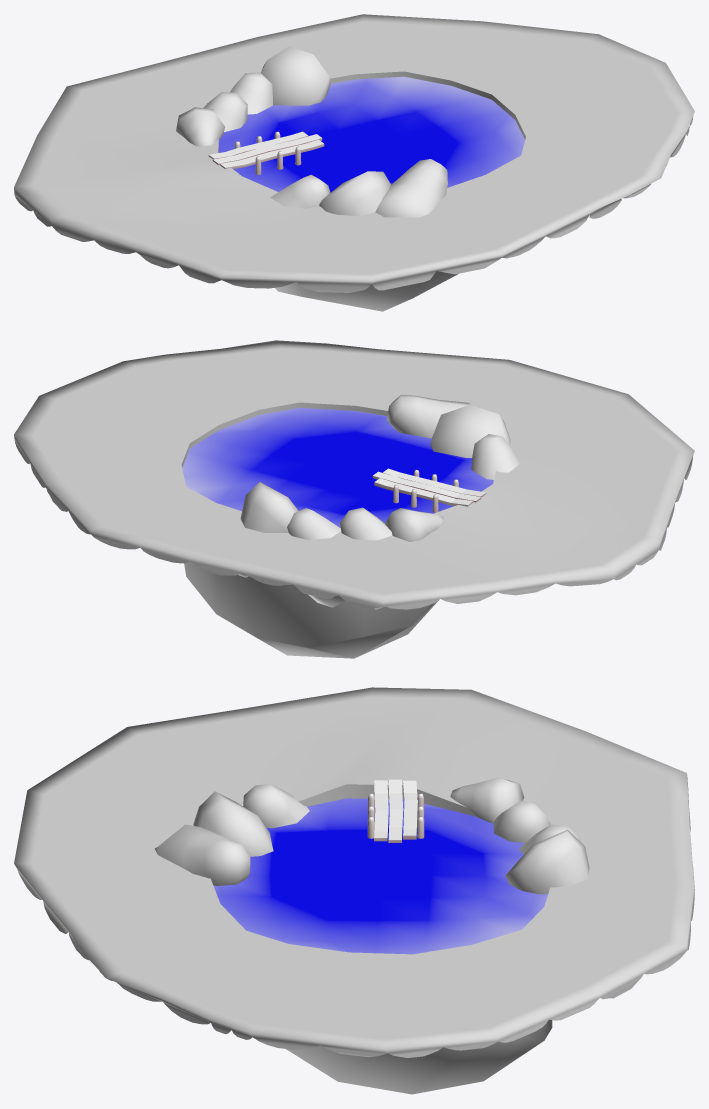
File: FinaleTopper.fbx
3 renders of one model, top to bottom at view 1: azimuth 30°, elevation 25°; view 2: azimuth 150°, elevation 25°; view 3: azimuth 270°, elevation 25°, orthographic. The views are drawn at different scales.
Visible parts, largest first — view 1: Plane.014, Plane.016, Plane.017, Cube.046, Cube.044, Cube.043, Cube.037, Cube.032, Cube.042, Cube.045, Cube.041; view 2: Plane.014, Plane.016, Plane.017, Cube.043, Cube.044, Cube.046, Cube.037, Cube.042, Cube.045, Cube.032, Cube.041; view 3: Plane.014, Plane.016, Plane.017, Cube.044, Cube.046, Cube.043, Cube.037, Cube.032, Cube.042, Cube.041.
Boxes of the visible parts, x1=… form: Plane.014: x1=14, y1=14, x2=694, y2=292; Plane.016: x1=218, y1=76, x2=525, y2=192; Plane.017: x1=218, y1=71, x2=525, y2=311; Cube.046: x1=261, y1=46, x2=330, y2=105; Cube.044: x1=375, y1=159, x2=447, y2=217; Cube.043: x1=319, y1=171, x2=390, y2=216; Cube.037: x1=208, y1=131, x2=324, y2=169; Cube.032: x1=176, y1=107, x2=224, y2=146; Cube.042: x1=270, y1=174, x2=330, y2=208; Cube.045: x1=230, y1=72, x2=272, y2=114; Cube.041: x1=203, y1=92, x2=247, y2=132; Plane.014: x1=14, y1=340, x2=694, y2=609; Plane.016: x1=182, y1=407, x2=493, y2=527; Plane.017: x1=181, y1=402, x2=438, y2=658; Cube.043: x1=430, y1=405, x2=510, y2=457; Cube.044: x1=386, y1=394, x2=475, y2=438; Cube.046: x1=238, y1=482, x2=298, y2=577; Cube.037: x1=372, y1=468, x2=486, y2=506; Cube.042: x1=471, y1=434, x2=519, y2=479; Cube.045: x1=287, y1=508, x2=344, y2=607; Cube.032: x1=385, y1=508, x2=445, y2=541; Cube.041: x1=339, y1=507, x2=392, y2=609; Plane.014: x1=14, y1=687, x2=694, y2=1057; Plane.016: x1=213, y1=798, x2=547, y2=954; Plane.017: x1=286, y1=784, x2=552, y2=1094; Cube.044: x1=155, y1=824, x2=250, y2=885; Cube.046: x1=505, y1=829, x2=589, y2=894; Cube.043: x1=193, y1=791, x2=273, y2=856; Cube.037: x1=374, y1=779, x2=417, y2=842; Cube.032: x1=450, y1=777, x2=524, y2=822; Cube.042: x1=243, y1=784, x2=309, y2=828; Cube.041: x1=493, y1=800, x2=550, y2=842.
Bounding box in the file's own units: 5031 × 1582 × 4000.
